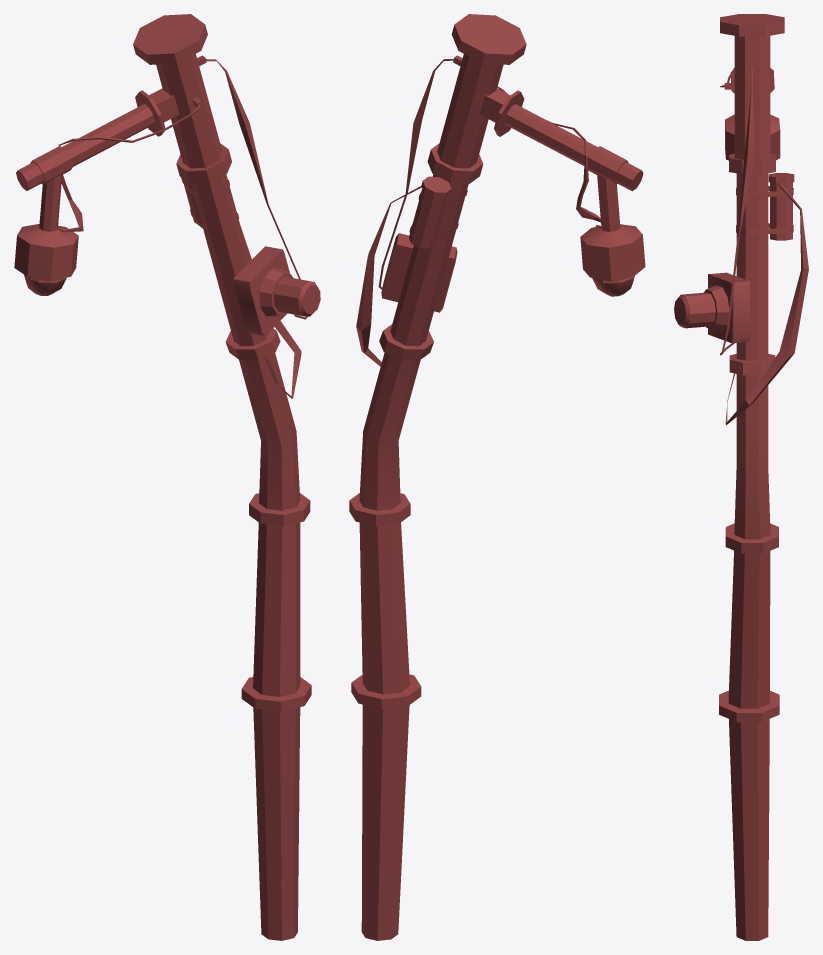
File: SM_CCTVPole_01.fbx
3 views of the same model, side by side, from view 1: azimuth 30°, elevation 25°; view 2: azimuth 150°, elevation 25°; view 3: azimuth 270°, elevation 25° (orthographic). The views are drawn at different scales.
Visible parts, largest first — view 1: SM_CCTVPole_01; view 2: SM_CCTVPole_01; view 3: SM_CCTVPole_01.
Part boxes in pixels (x1,y1,x2,y2): SM_CCTVPole_01: (14, 14, 320, 940); SM_CCTVPole_01: (349, 14, 645, 940); SM_CCTVPole_01: (674, 14, 808, 940).
Bounding box in the file's own units: 481 × 1508 × 212.
